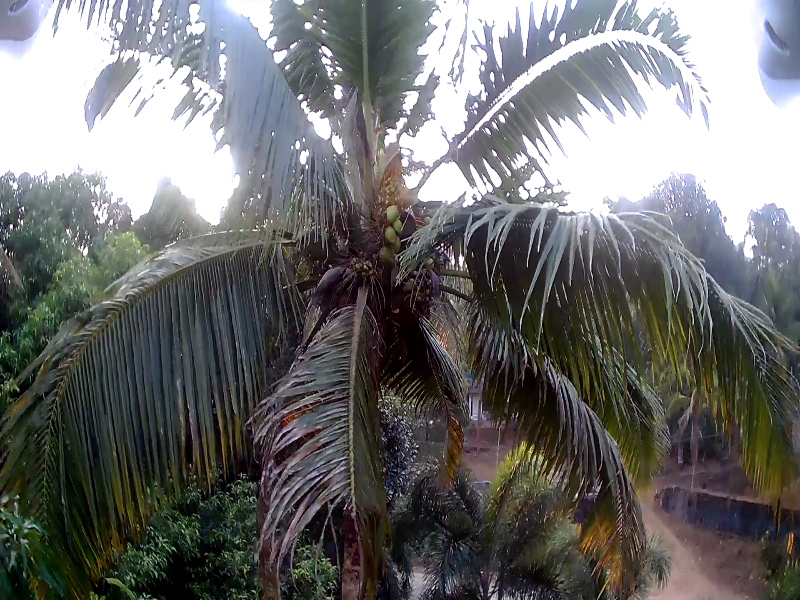coconut: (410, 272, 432, 293), (376, 204, 396, 220), (379, 244, 394, 260), (355, 260, 370, 274), (382, 230, 396, 244), (389, 215, 403, 227), (391, 228, 402, 243), (423, 257, 431, 264)
